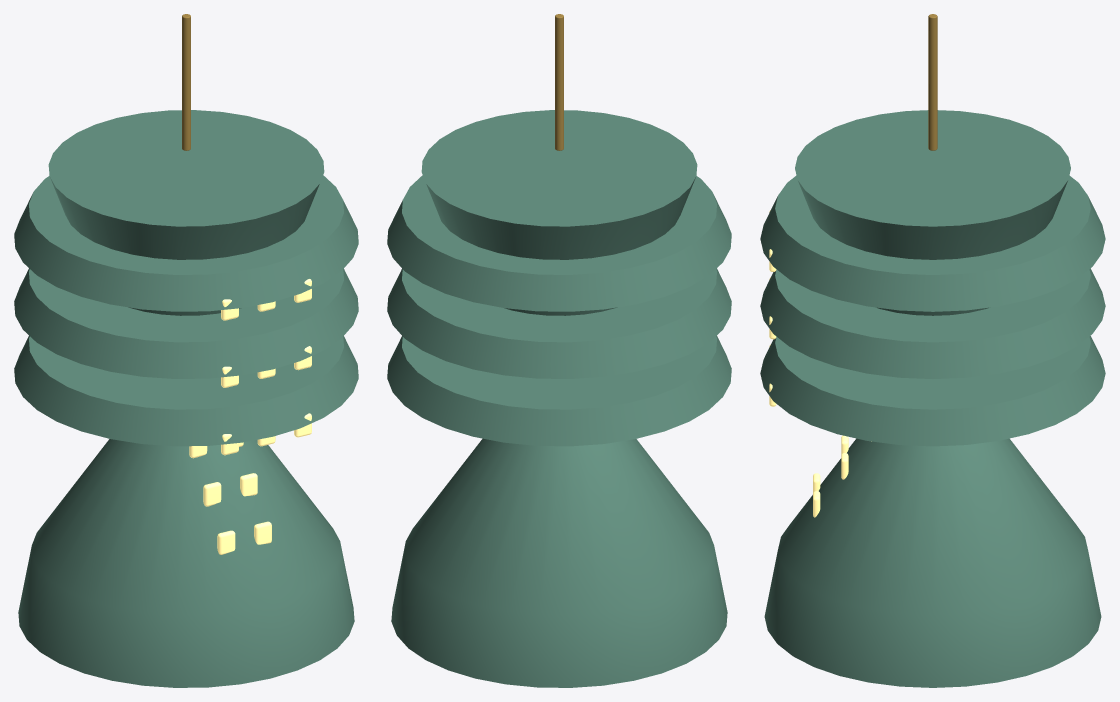
The picture shows the model from 3 angles, left to right: view 1: azimuth 30°, elevation 25°; view 2: azimuth 150°, elevation 25°; view 3: azimuth 270°, elevation 25°; orthographic projection.
Visible parts, largest first — view 1: Flared spindle column, Spindle saucer platform, Spindle saucer platform.001, Spindle saucer platform.002, Aerial stem; view 2: Flared spindle column, Spindle saucer platform, Spindle saucer platform.001, Spindle saucer platform.002, Aerial stem; view 3: Flared spindle column, Spindle saucer platform, Spindle saucer platform.001, Spindle saucer platform.002, Aerial stem.
Part boxes in pixels (x1=…): Flared spindle column: x1=18, y1=110, x2=354, y2=687; Spindle saucer platform: x1=14, y1=336, x2=358, y2=446; Spindle saucer platform.001: x1=14, y1=268, x2=358, y2=378; Spindle saucer platform.002: x1=14, y1=175, x2=358, y2=311; Aerial stem: x1=182, y1=14, x2=190, y2=150; Flared spindle column: x1=391, y1=110, x2=727, y2=687; Spindle saucer platform: x1=387, y1=336, x2=731, y2=446; Spindle saucer platform.001: x1=387, y1=268, x2=731, y2=378; Spindle saucer platform.002: x1=387, y1=175, x2=731, y2=311; Aerial stem: x1=555, y1=14, x2=563, y2=150; Flared spindle column: x1=764, y1=110, x2=1101, y2=687; Spindle saucer platform: x1=760, y1=336, x2=1105, y2=446; Spindle saucer platform.001: x1=760, y1=268, x2=1105, y2=378; Spindle saucer platform.002: x1=760, y1=175, x2=1105, y2=311; Aerial stem: x1=928, y1=14, x2=937, y2=150.
Size of the model in its own units: 1.64 by 3.15 by 1.64.
